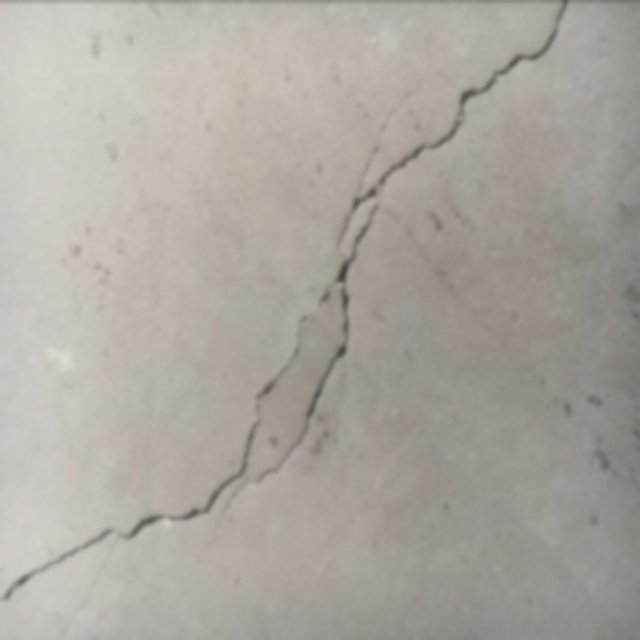SurfaceCrack: (0, 1, 637, 640)
